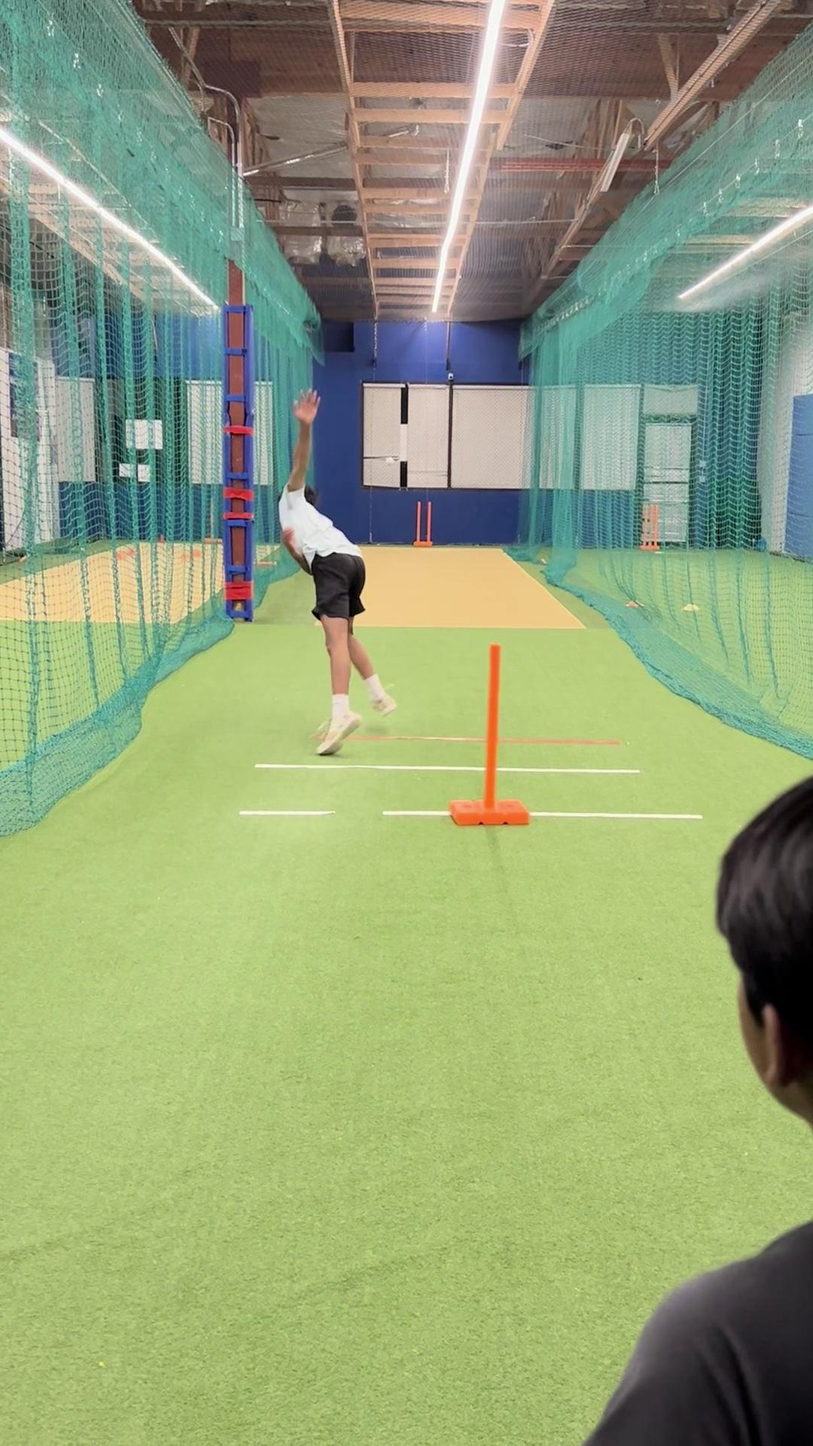ball: (381, 455, 399, 469)
